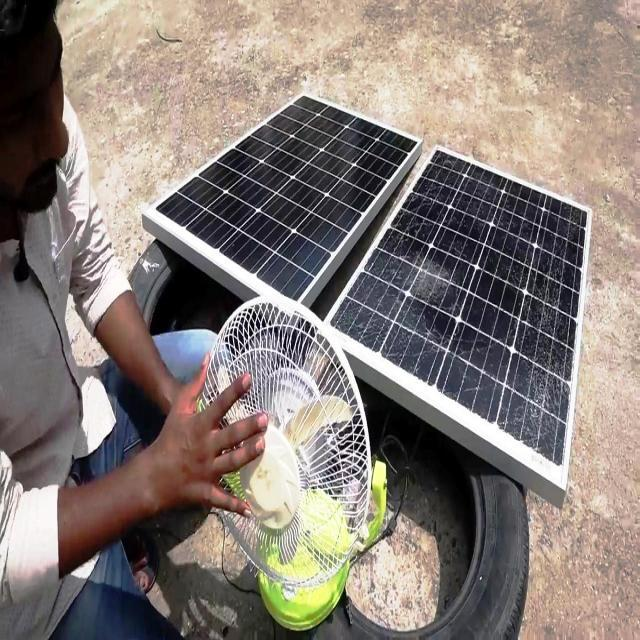faulty: (332, 148, 594, 479)
no faulty: (153, 90, 414, 300)
